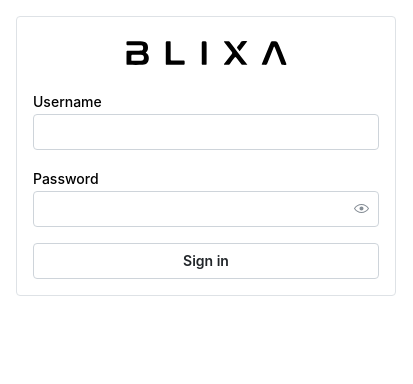
Test case: shows an error when local login is rejected
In the field labelled "Username": (206, 132) [33, 114, 379, 150], type "alice"
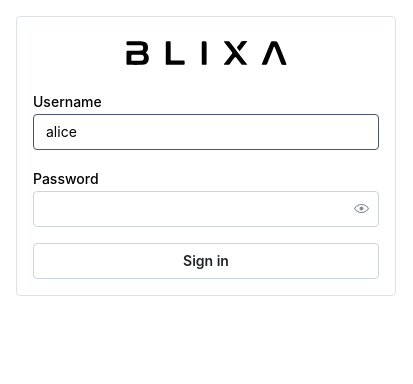
In the password field labelled "Password": (206, 209) [34, 192, 378, 226], type "wrong"
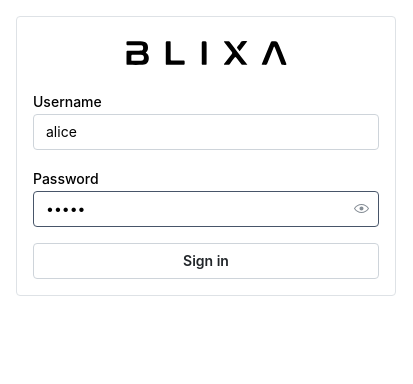
Click the button "Sign in": (206, 261) [33, 243, 379, 279]
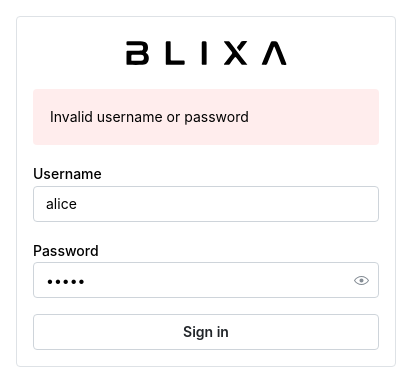
Result: the text "Invalid username or password" is shown at [50, 108, 249, 125]
